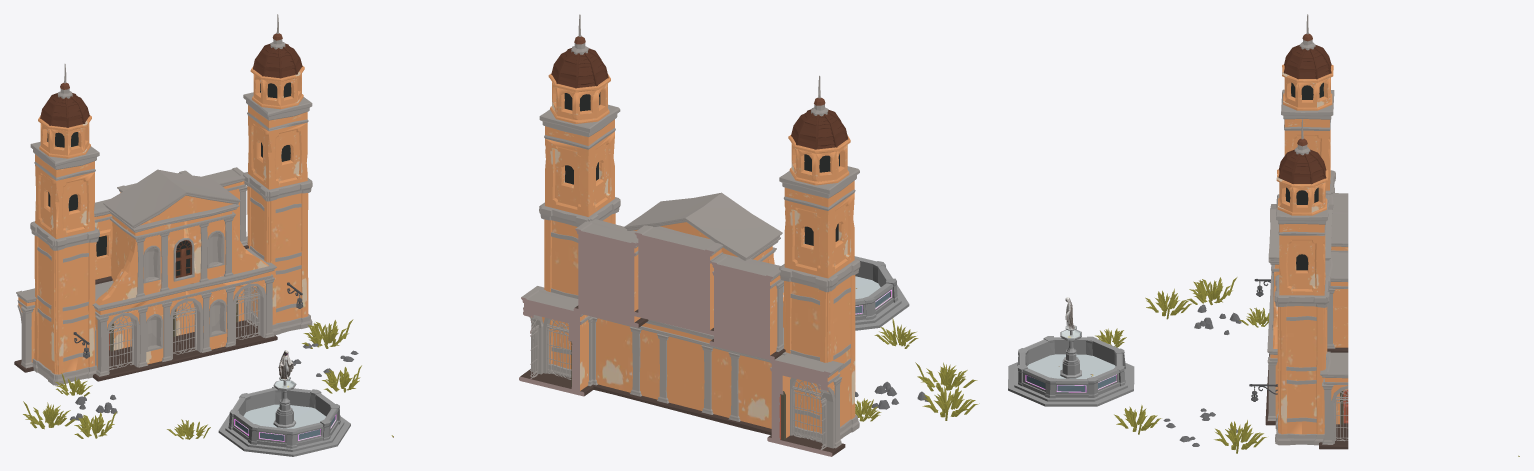
File: fountain2.glb
3 renders of one model, left to right at view 1: azimuth 30°, elevation 25°; view 2: azimuth 150°, elevation 25°; view 3: azimuth 270°, elevation 25°, orthographic. The views are drawn at different scales.
Parts seen in each view (by area): view 1: SM_Bld_Cuba_Hall_Room_02_1, Fountain, SM_Env_Grass_02_5, SM_Env_Grass_02_1, SM_Env_Grass_02, SM_Env_Grass_02_3, SM_Env_Grass_02_4, SM_Env_Rocks_01, SM_Env_Grass_02_2; view 2: SM_Bld_Cuba_Hall_Room_02_1, Fountain, SM_Env_Grass_02_1, SM_Env_Grass_02; view 3: SM_Bld_Cuba_Hall_Room_02_1, Fountain, SM_Env_Grass_02_5, SM_Env_Grass_02_1, SM_Env_Grass_02, SM_Env_Grass_02_3.
Boxes of the visible parts, bbox=[...] form: SM_Bld_Cuba_Hall_Room_02_1: bbox=[14, 14, 312, 385]; Fountain: bbox=[218, 376, 350, 456]; SM_Env_Grass_02_5: bbox=[302, 319, 353, 348]; SM_Env_Grass_02_1: bbox=[23, 401, 76, 429]; SM_Env_Grass_02: bbox=[74, 411, 117, 438]; SM_Env_Grass_02_3: bbox=[322, 365, 361, 393]; SM_Env_Grass_02_4: bbox=[167, 419, 210, 439]; SM_Env_Rocks_01: bbox=[70, 394, 117, 420]; SM_Env_Grass_02_2: bbox=[55, 373, 92, 396]; SM_Bld_Cuba_Hall_Room_02_1: bbox=[391, 14, 860, 456]; Fountain: bbox=[783, 256, 909, 330]; SM_Env_Grass_02_1: bbox=[922, 385, 979, 420]; SM_Env_Grass_02: bbox=[915, 362, 977, 391]; SM_Bld_Cuba_Hall_Room_02_1: bbox=[1249, 14, 1519, 456]; Fountain: bbox=[1008, 325, 1134, 406]; SM_Env_Grass_02_5: bbox=[1214, 420, 1266, 453]; SM_Env_Grass_02_1: bbox=[1187, 277, 1237, 305]; SM_Env_Grass_02: bbox=[1145, 288, 1193, 319]; SM_Env_Grass_02_3: bbox=[1114, 405, 1161, 434].
Size of the model in its own units: 14.36 by 11.97 by 17.51.
14 materials, 5 textured.
